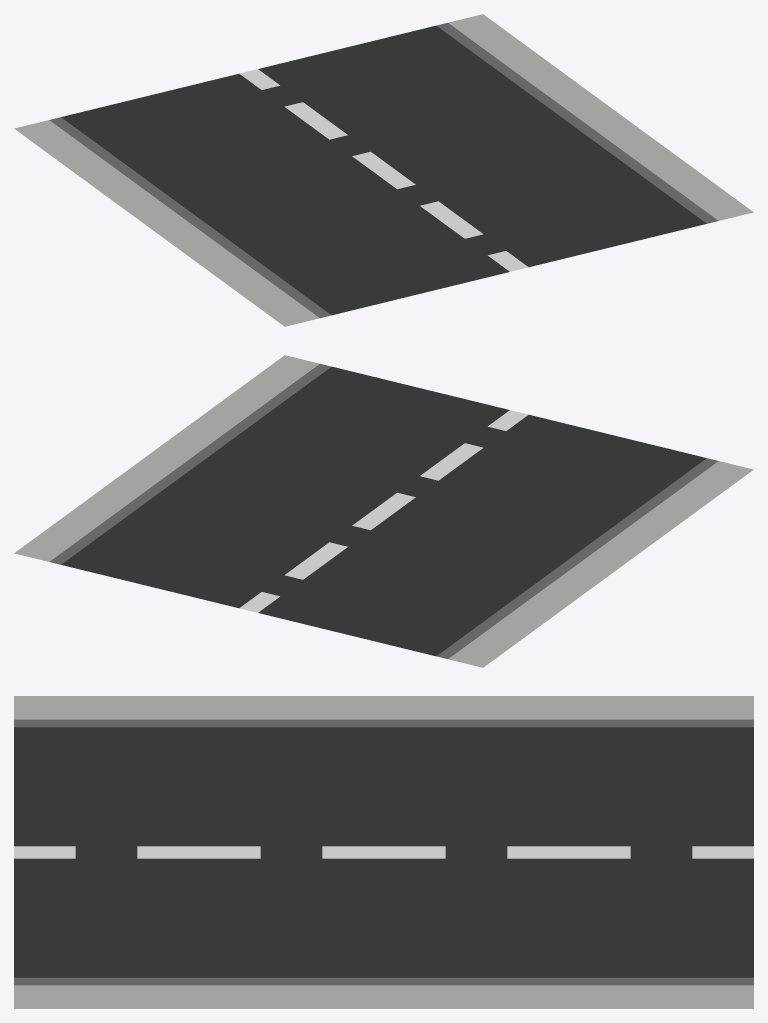
The model's file is SM_Road_Tile_Dotted_Lines.fbx.
3 views of the same model, one above another, from view 1: azimuth 30°, elevation 25°; view 2: azimuth 150°, elevation 25°; view 3: azimuth 270°, elevation 25° (orthographic). The views are drawn at different scales.
Visible parts, largest first — view 1: Tile_Road_Dotted_Lines; view 2: Tile_Road_Dotted_Lines; view 3: Tile_Road_Dotted_Lines.
Part boxes in pixels (<box>): Tile_Road_Dotted_Lines: <box>14,14,753,326</box>; Tile_Road_Dotted_Lines: <box>14,355,753,667</box>; Tile_Road_Dotted_Lines: <box>14,696,753,1008</box>.
Bounding box in the file's own units: 1000 × 0 × 1000.
1 material, 1 textured.
